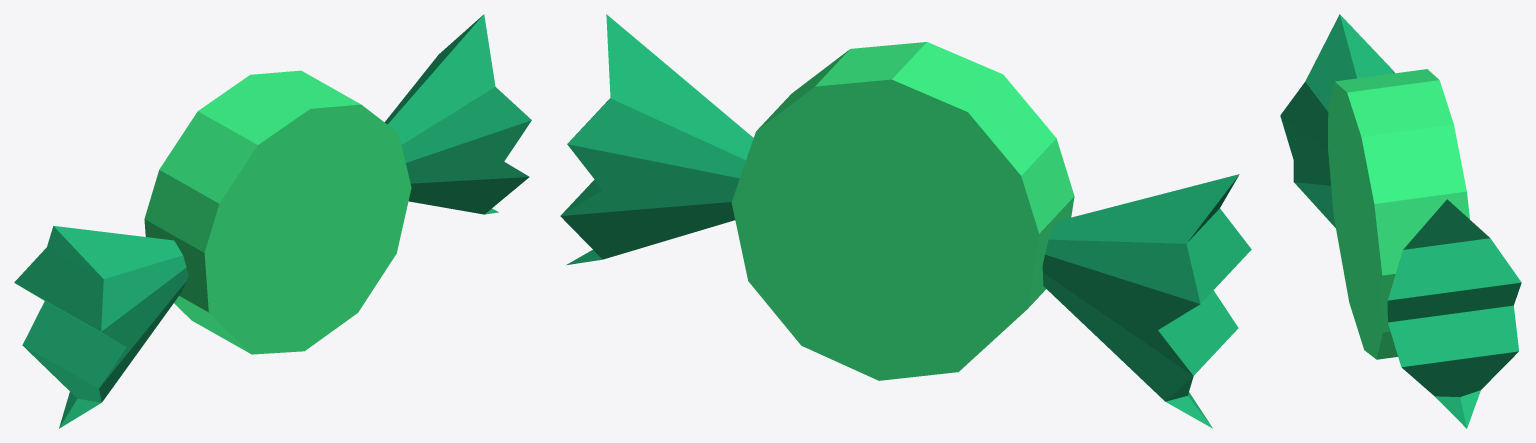
File: Halloween.Candy.fbx
3 views of the same model, side by side, from view 1: azimuth 30°, elevation 25°; view 2: azimuth 150°, elevation 25°; view 3: azimuth 270°, elevation 25° (orthographic). The views are drawn at different scales.
Visible parts, largest first — view 1: Candy; view 2: Candy; view 3: Candy.
Part boxes in pixels (<box>): Candy: <box>14,14,531,428</box>; Candy: <box>560,14,1251,428</box>; Candy: <box>1280,14,1521,428</box>.
Bounding box in the file's own units: 147 × 73.7 × 58.48.
